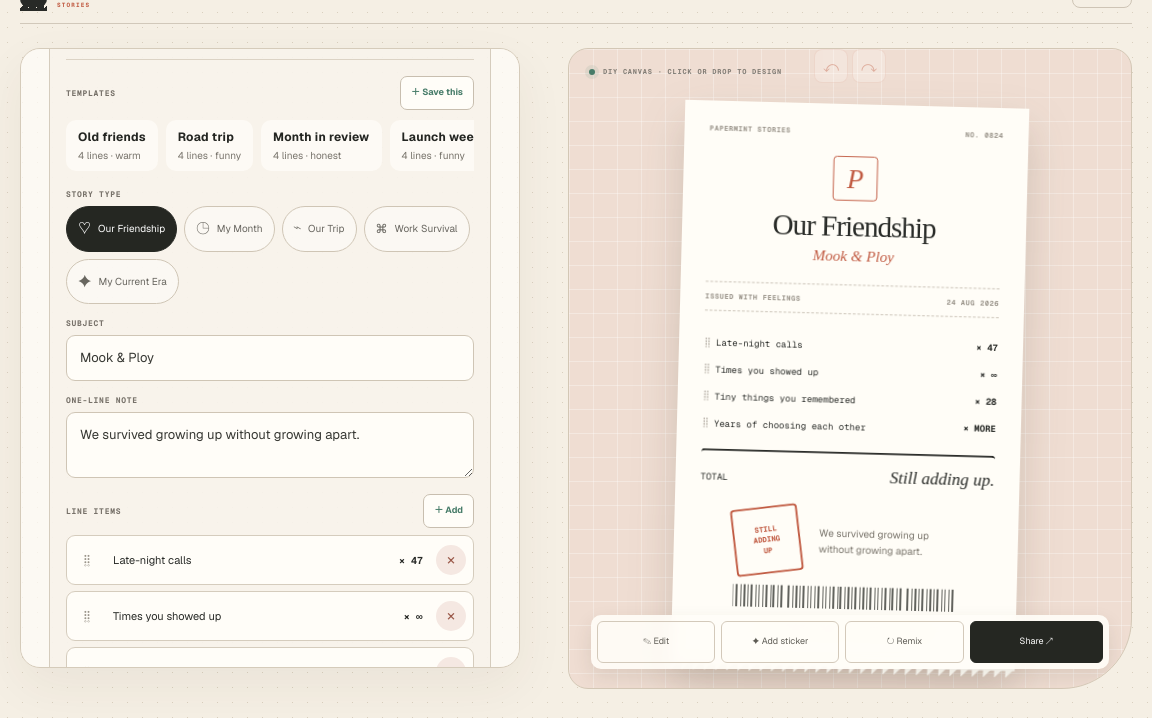
Test: line items › editing a row's label updates the receipt
(page scrolled)
Replace the text in the field labelled "SUBJECT" with "Songs on repeat": (270, 358) x1=66 y1=335 x2=474 y2=381
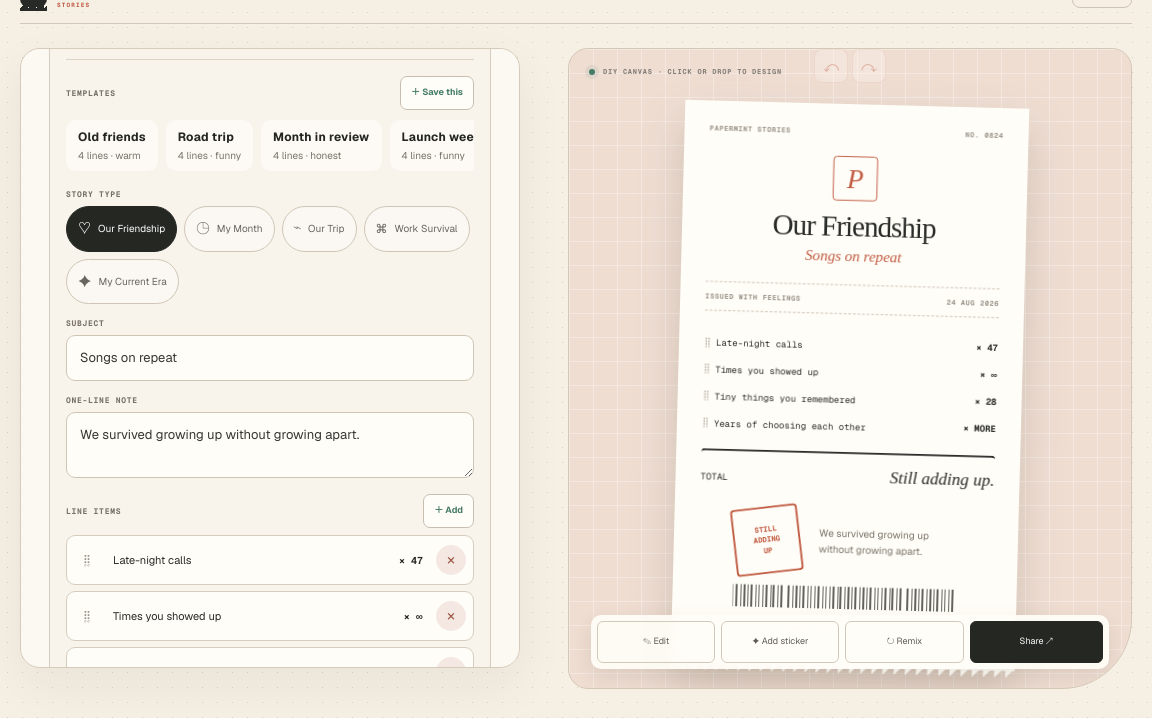
Result: the element with id "story-receipt" shows "Songs on repeat" at x1=805 y1=247 x2=902 y2=266
